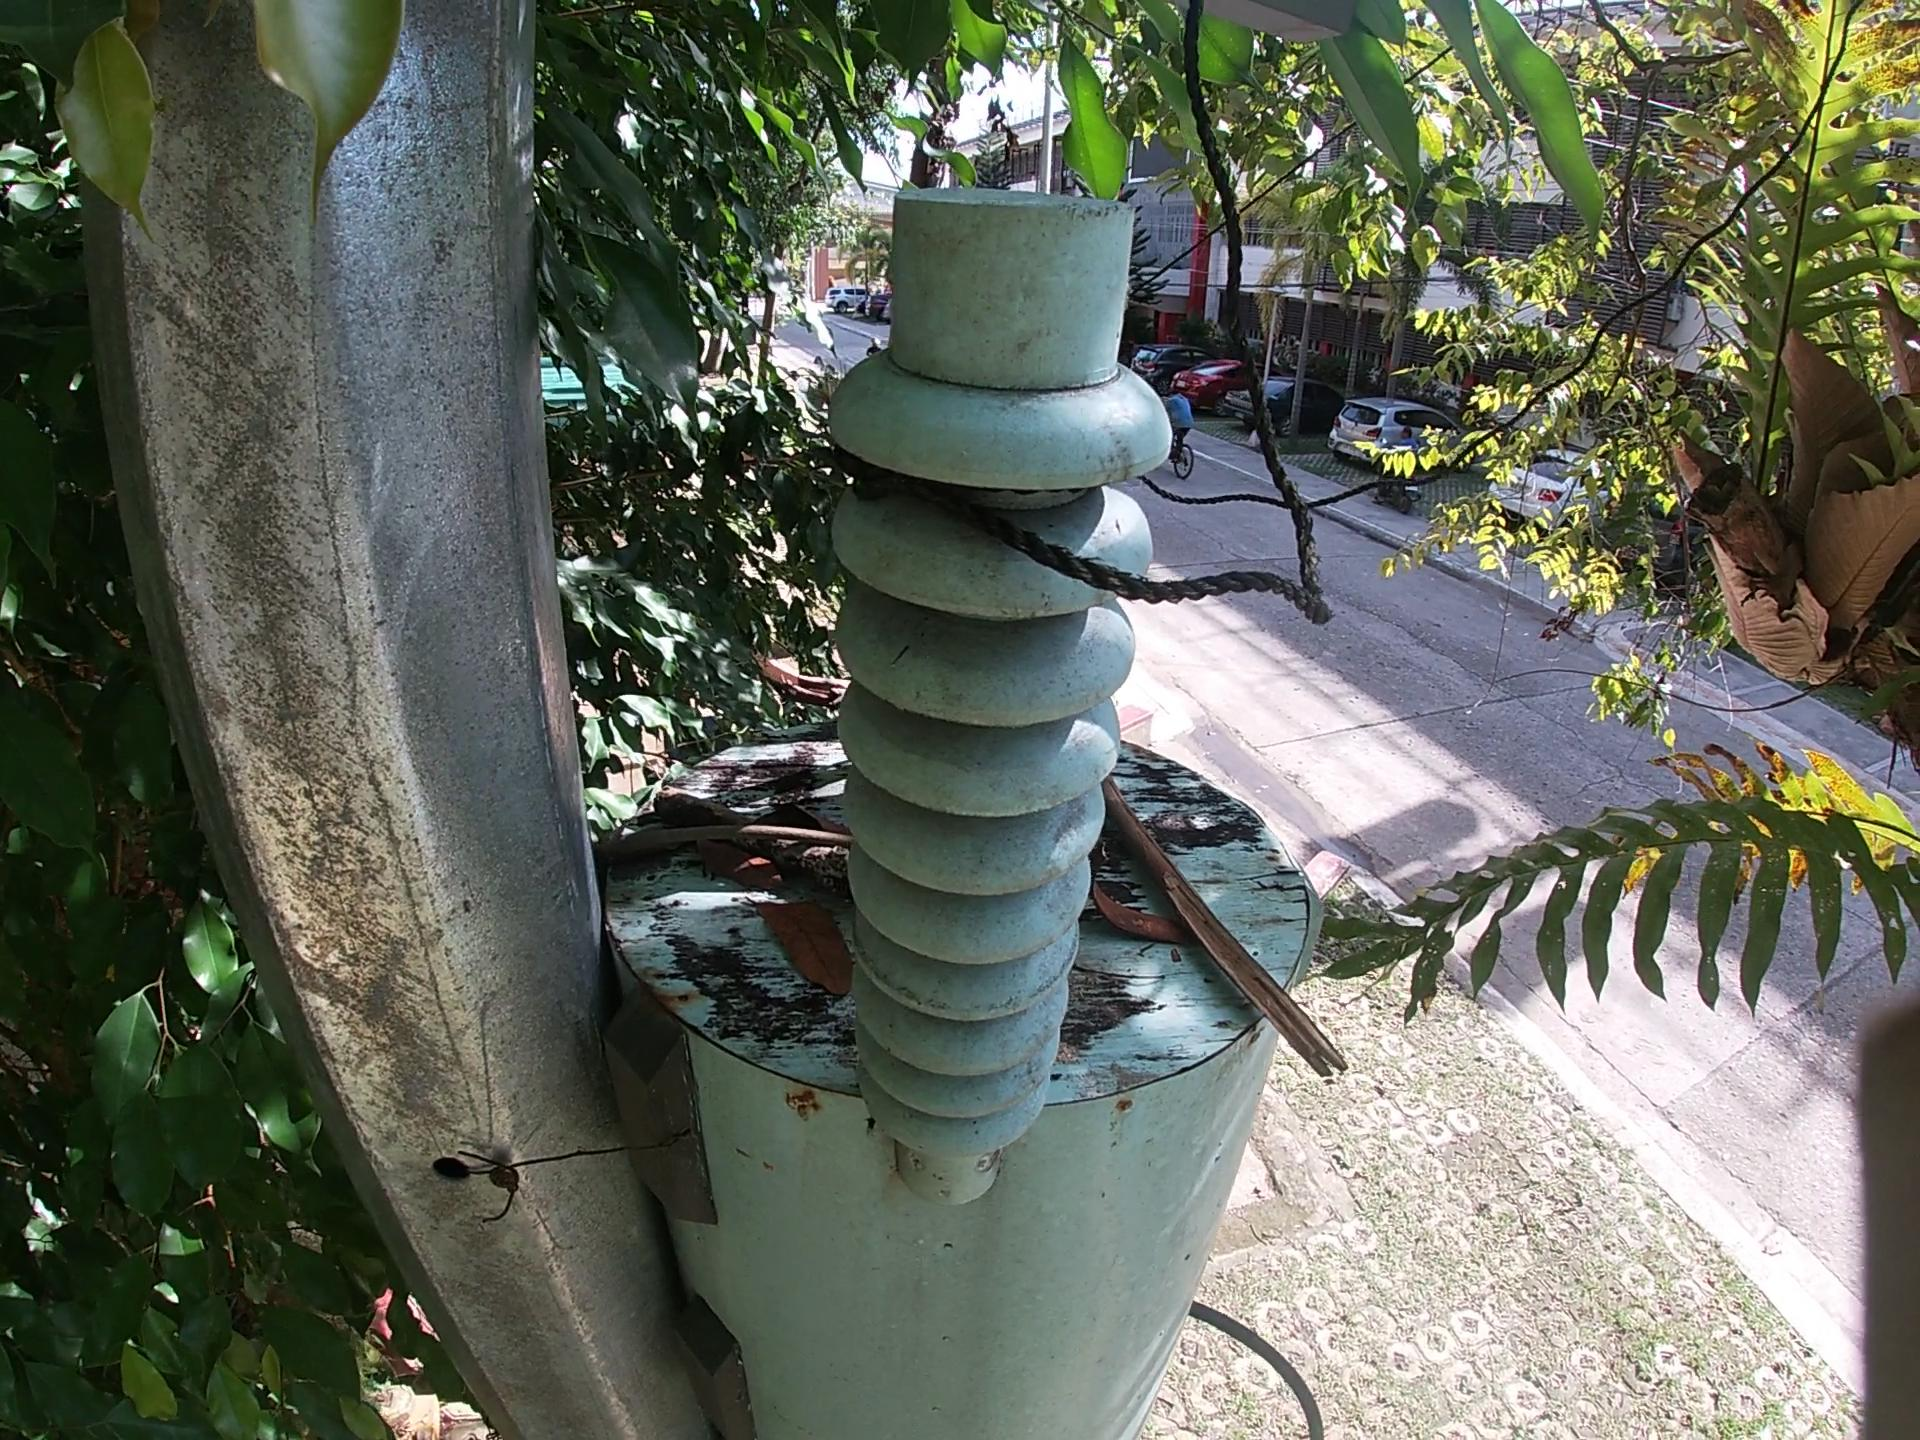leaf: (754, 903, 862, 1023), (694, 846, 797, 908), (751, 808, 853, 835)
mahogany fruit: (1079, 867, 1178, 938)
tree branch: (1096, 758, 1391, 1085), (646, 784, 857, 900), (605, 824, 857, 867), (736, 650, 844, 706), (1070, 957, 1173, 989)
